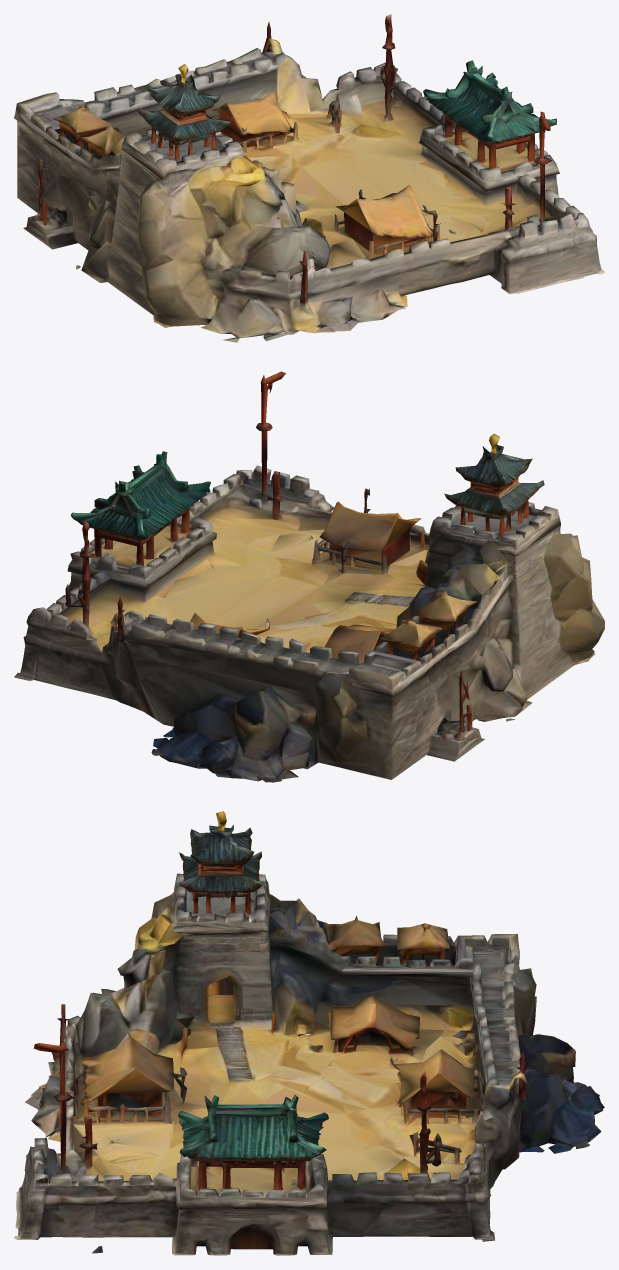
The model's file is hanzhong.glb.
3 renders of one model, top to bottom at view 1: azimuth 30°, elevation 25°; view 2: azimuth 150°, elevation 25°; view 3: azimuth 270°, elevation 25°, orthographic. The views are drawn at different scales.
Parts seen in each view (by area): view 1: tripo_node_aca41479-21e6-4307-a654-84827d2f9dca; view 2: tripo_node_aca41479-21e6-4307-a654-84827d2f9dca; view 3: tripo_node_aca41479-21e6-4307-a654-84827d2f9dca.
Part boxes in pixels (x1,y1,x2,y2): tripo_node_aca41479-21e6-4307-a654-84827d2f9dca: (14, 14, 604, 342); tripo_node_aca41479-21e6-4307-a654-84827d2f9dca: (14, 371, 604, 782); tripo_node_aca41479-21e6-4307-a654-84827d2f9dca: (14, 811, 604, 1255).
Bounding box in the file's own units: 16.85 × 8.29 × 17.92.
Materials: 1 (1 with a texture image).
